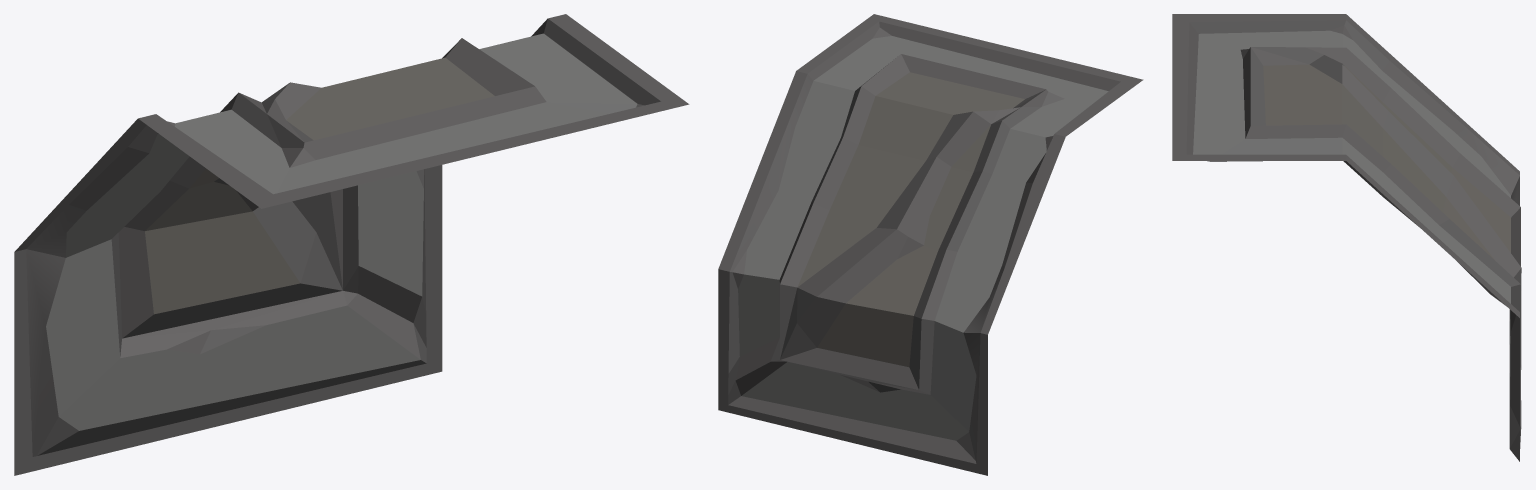
File: SM_Env_Ceiling_Stone_Curved_02.FBX
3 renders of one model, left to right at view 1: azimuth 30°, elevation 25°; view 2: azimuth 150°, elevation 25°; view 3: azimuth 270°, elevation 25°, orthographic. The views are drawn at different scales.
Visible parts, largest first — view 1: SM_Env_Ceiling_Stone_Curved_02; view 2: SM_Env_Ceiling_Stone_Curved_02; view 3: SM_Env_Ceiling_Stone_Curved_02.
Boxes of the visible parts, x1,y1,x2,y2 form: SM_Env_Ceiling_Stone_Curved_02: (14, 14, 689, 475); SM_Env_Ceiling_Stone_Curved_02: (718, 14, 1143, 475); SM_Env_Ceiling_Stone_Curved_02: (1172, 14, 1521, 461).
Size of what is drawn, in the model's own units: 500 by 502 by 502.
